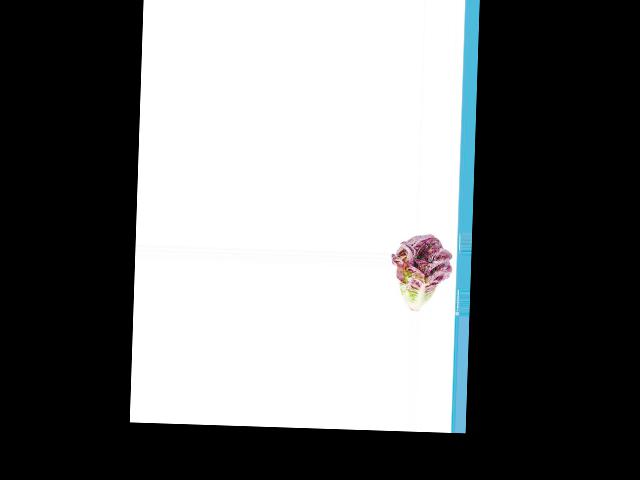lettuce: (391, 234, 453, 313)
